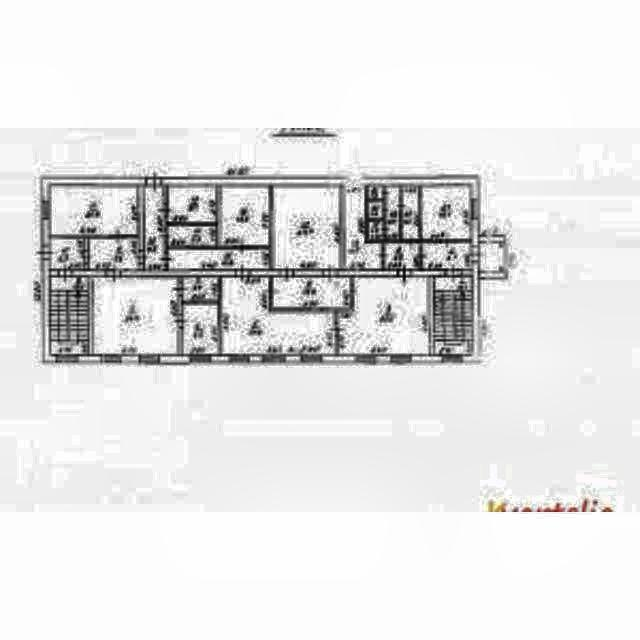room: (220, 277, 337, 355), (339, 277, 432, 355), (93, 278, 178, 354), (271, 186, 339, 268), (51, 186, 136, 235), (344, 184, 383, 271), (220, 186, 269, 246), (50, 277, 88, 354), (434, 277, 472, 354), (422, 187, 470, 239), (273, 277, 349, 307), (141, 186, 165, 268), (168, 249, 268, 268), (183, 305, 220, 354), (168, 188, 215, 222), (90, 238, 137, 269), (421, 243, 471, 269), (401, 186, 419, 241), (52, 240, 83, 269), (169, 226, 215, 245), (384, 243, 419, 267), (183, 277, 217, 299), (479, 242, 504, 271), (385, 188, 399, 239), (368, 222, 382, 239), (368, 202, 382, 217), (368, 187, 383, 198)
